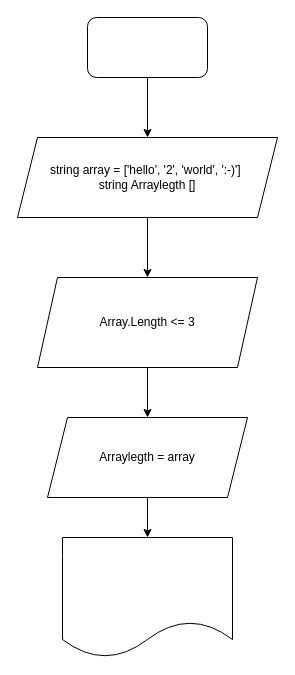
The diagram is 295 pixels wide and 675 high, and some of its shapes have lost their labels. The shapes that lost their labels are listed below. From the top down, each one's box as (x1, y1, x2, y2) in pixels, then its label:
(86, 16, 208, 78): Начало
(62, 536, 232, 658): Print Arraylegth
